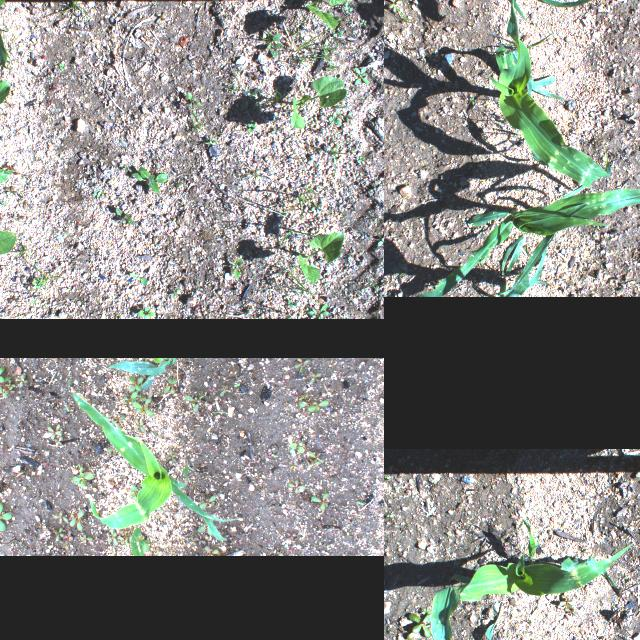crop: (67, 379, 239, 541), (429, 519, 636, 640), (483, 0, 611, 187), (457, 602, 640, 640), (37, 358, 175, 393), (498, 225, 558, 297), (290, 77, 346, 129), (492, 0, 606, 22), (298, 232, 342, 284), (306, 0, 360, 30), (0, 230, 15, 278), (0, 80, 10, 147), (0, 0, 8, 69), (130, 526, 144, 556)
weed: (413, 183, 640, 297), (284, 16, 346, 56), (274, 262, 322, 304), (224, 60, 260, 96), (312, 38, 352, 70), (286, 184, 316, 222), (26, 263, 64, 291), (331, 128, 354, 174), (130, 167, 168, 193), (405, 609, 432, 640), (279, 230, 315, 250), (57, 0, 88, 19), (70, 464, 94, 488), (261, 32, 281, 58), (184, 392, 210, 412), (130, 397, 154, 418), (8, 238, 30, 260), (296, 47, 316, 69), (192, 109, 206, 139), (0, 147, 12, 182), (38, 424, 62, 441), (128, 535, 150, 553), (297, 401, 329, 413), (69, 508, 85, 532), (559, 594, 575, 618), (0, 367, 14, 393), (309, 493, 329, 511), (195, 518, 215, 536), (0, 500, 11, 532), (331, 103, 349, 121), (264, 88, 284, 104), (306, 304, 328, 318), (389, 8, 411, 22), (247, 165, 266, 181), (116, 208, 134, 224), (198, 494, 216, 510), (162, 376, 178, 394), (128, 375, 144, 393), (228, 259, 242, 279), (286, 480, 306, 494), (293, 358, 311, 373), (106, 526, 118, 548), (288, 442, 304, 458), (354, 67, 368, 85), (109, 412, 127, 426), (128, 485, 148, 497), (306, 372, 322, 386), (122, 390, 138, 404), (136, 307, 154, 319), (327, 111, 341, 125), (186, 92, 200, 106), (130, 272, 146, 284), (385, 0, 401, 12), (308, 452, 324, 464), (165, 448, 177, 464), (52, 526, 64, 542), (52, 512, 68, 524), (15, 373, 28, 387), (204, 134, 218, 146), (24, 296, 38, 308), (218, 384, 230, 398), (133, 418, 145, 432), (62, 530, 74, 544), (203, 546, 219, 556), (129, 394, 145, 404), (27, 52, 37, 66), (28, 0, 38, 14), (107, 446, 121, 456), (342, 111, 352, 123), (270, 126, 282, 136), (93, 189, 105, 199), (194, 536, 206, 546), (130, 492, 142, 502), (120, 530, 130, 542), (52, 436, 62, 448), (4, 380, 16, 390), (344, 0, 352, 14), (79, 535, 93, 543), (247, 121, 257, 132), (4, 187, 16, 196), (0, 383, 7, 398), (311, 202, 321, 212), (17, 199, 27, 209), (188, 536, 198, 546), (110, 482, 120, 492), (118, 536, 128, 546), (58, 540, 68, 550), (156, 11, 164, 23), (12, 213, 24, 220), (170, 289, 178, 299), (263, 451, 273, 459), (208, 387, 218, 395), (154, 510, 162, 520), (288, 462, 296, 471), (306, 462, 318, 468), (377, 237, 384, 247), (288, 300, 296, 308), (311, 476, 319, 484), (304, 364, 312, 372), (288, 546, 296, 554), (176, 389, 184, 397), (58, 62, 64, 72), (333, 30, 343, 36), (298, 394, 308, 400), (152, 432, 162, 438), (95, 536, 104, 542), (356, 156, 364, 162), (358, 19, 366, 25), (356, 500, 364, 506), (232, 382, 240, 388), (470, 96, 474, 106), (122, 166, 128, 172), (270, 452, 276, 458), (158, 388, 162, 396), (212, 411, 226, 413), (278, 552, 284, 556), (0, 440, 3, 447)
